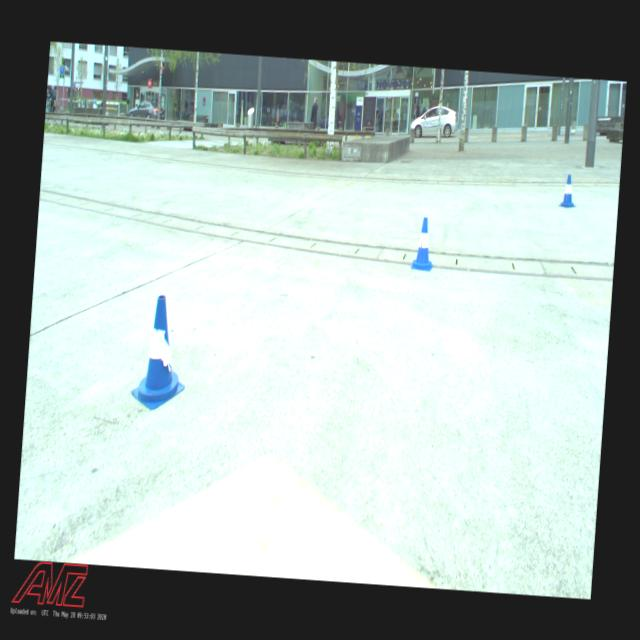blue_cone: (129, 292, 189, 410), (409, 215, 437, 271), (558, 172, 578, 208)
